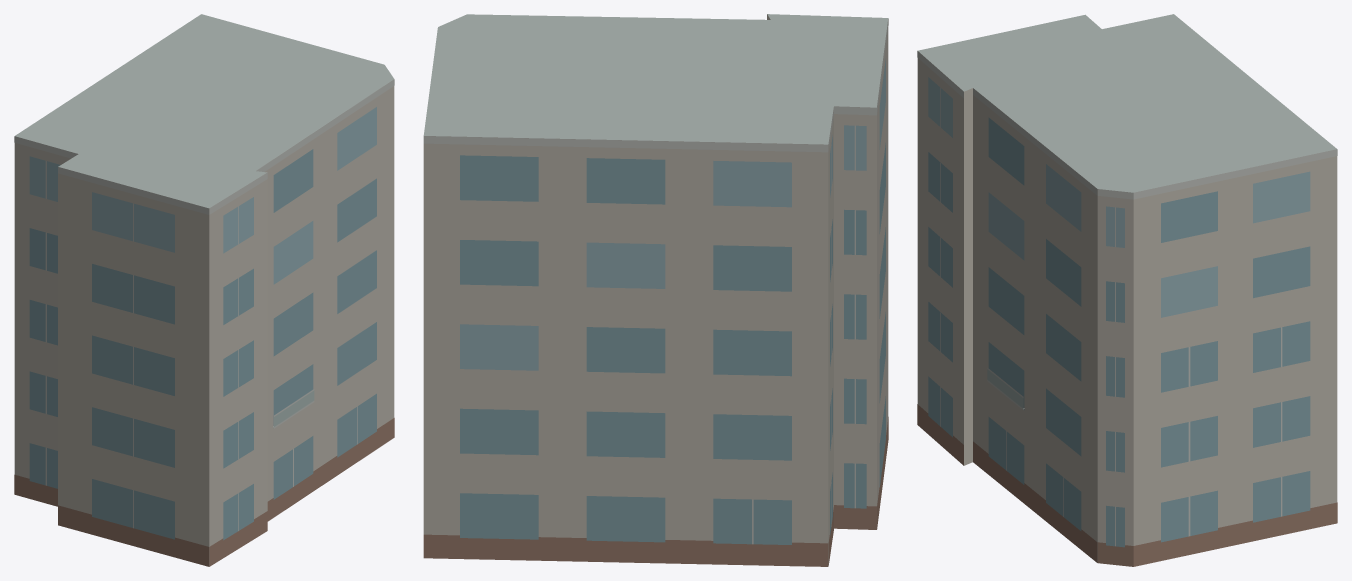
File: survey-upis-32896439.glb
3 renders of one model, left to right at view 1: azimuth 30°, elevation 25°; view 2: azimuth 150°, elevation 25°; view 3: azimuth 270°, elevation 25°, orthographic. The views are drawn at different scales.
Visible parts, largest first — view 1: survey-upis-32896439.tmp; view 2: survey-upis-32896439.tmp; view 3: survey-upis-32896439.tmp.
Part boxes in pixels (left/top/right/bottom): survey-upis-32896439.tmp: left=14, top=14, right=394, bottom=566; survey-upis-32896439.tmp: left=423, top=14, right=888, bottom=566; survey-upis-32896439.tmp: left=917, top=14, right=1337, bottom=566.
Bounding box in the file's own units: 13.63 × 13.3 × 13.54.
